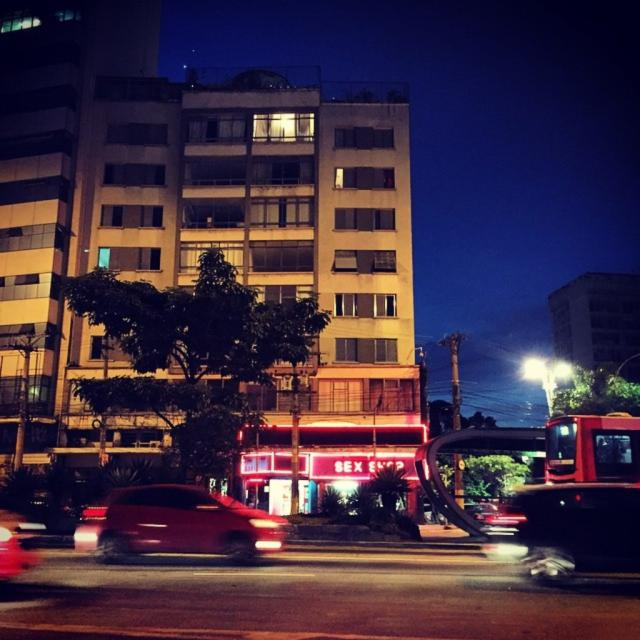car: (75, 487, 280, 560)
